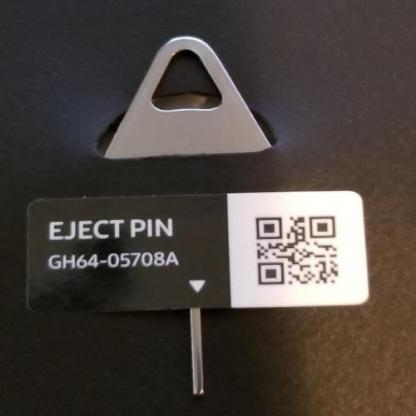qr: (251, 212, 345, 289)
